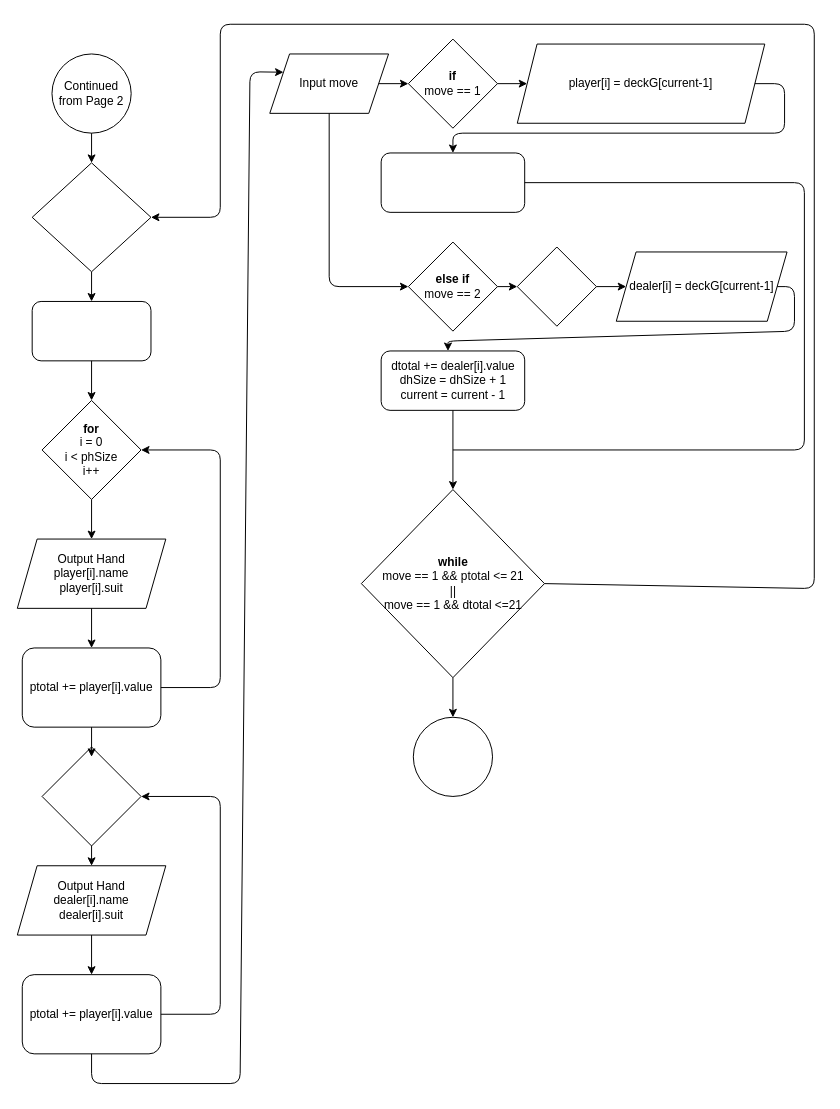
Some shapes in this 840 by 1109 pixel diagram are drawn without their labels. The centre of each missing label's shape, as x and y in pixels:
Continued Page 4: [452,756]
do: [91,217]
for i = 0 i < dhSize i++: [91,796]
ptotal += player[i].value phSize = phSize + 1 current = current - 1: [452,182]
ptotal = 0 dtotal = 0: [91,330]
while dtotal < 17: [556,286]
